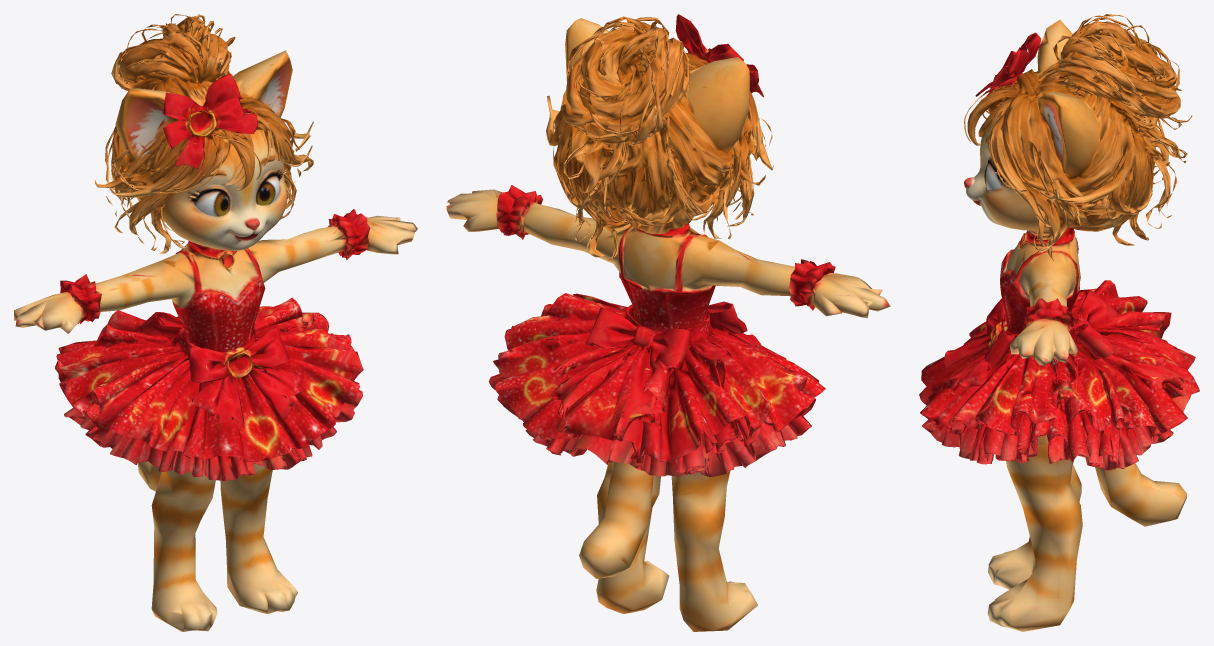
Rendered from loveheart.prepared.glb.
3 views of the same model, side by side, from view 1: azimuth 30°, elevation 25°; view 2: azimuth 150°, elevation 25°; view 3: azimuth 270°, elevation 25° (orthographic). The views are drawn at different scales.
Bounding box in the file's own units: 1.68 × 2.25 × 0.9869.
1 material, 1 textured.
